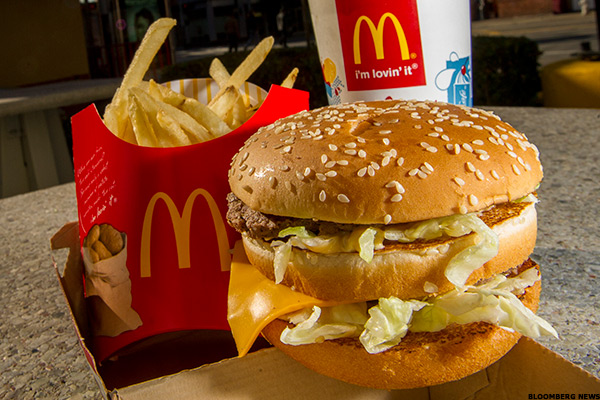mcdonalds: (135, 182, 233, 290), (346, 11, 415, 69)
